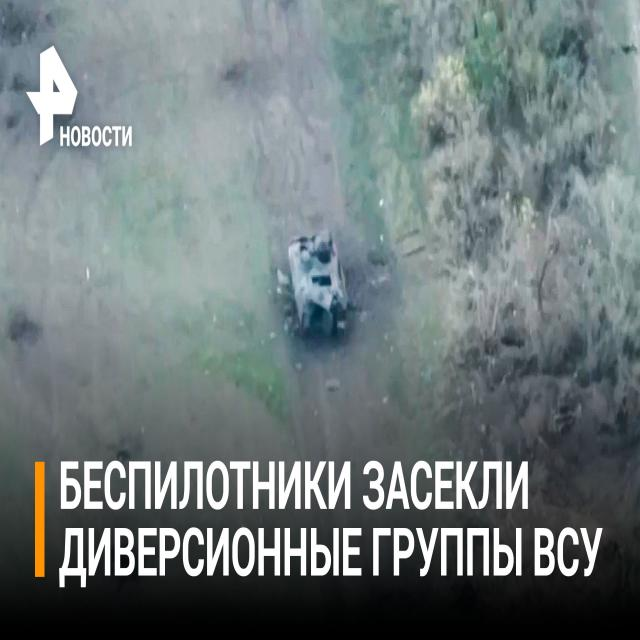apc: (288, 235, 350, 338)
